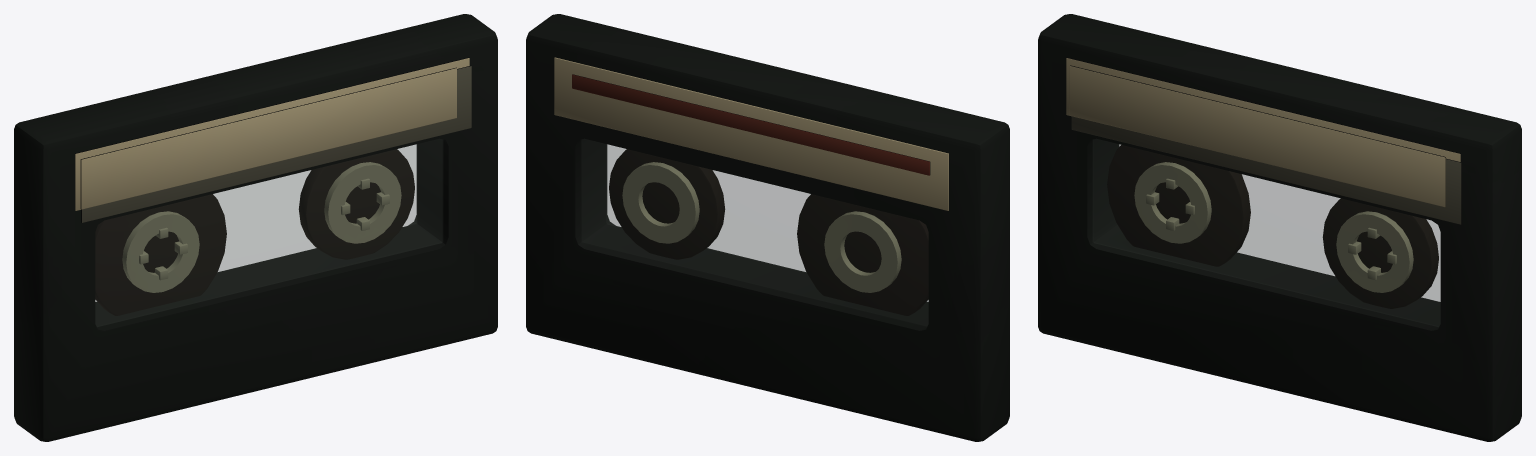
The model's file is Tape_02.fbx.
The picture shows the model from 3 angles, left to right: view 1: azimuth 30°, elevation 25°; view 2: azimuth 150°, elevation 25°; view 3: azimuth 330°, elevation 25°; orthographic projection.
Visible parts, largest first — view 1: Tape_02_Shell, Tape_02_Radio_Glass, Tape_02_Radio_Paper, TapeWinding.002, OldLabelEdge, TapeWinding.003, Tape_02_Reel_L_PIVOT_Radio_Spool, Tape_02_Reel_R_PIVOT_Radio_Spool; view 2: Tape_02_Shell, Tape_02_Radio_Glass, Tape_02_Radio_Paper, TapeWinding.002, TapeWinding.003, Tape_02_Radio_RustRed, Tape_02_Reel_L_PIVOT_Radio_Spool, Tape_02_Reel_R_PIVOT_Radio_Spool; view 3: Tape_02_Shell, Tape_02_Radio_Glass, Tape_02_Radio_Paper, TapeWinding.002, OldLabelEdge, TapeWinding.003, Tape_02_Reel_R_PIVOT_Radio_Spool, Tape_02_Reel_L_PIVOT_Radio_Spool.
Boxes of the visible parts, left/top/right/bottom form: Tape_02_Shell: left=14, top=14, right=497, bottom=441; Tape_02_Radio_Glass: left=95, top=139, right=442, bottom=326; Tape_02_Radio_Paper: left=75, top=57, right=469, bottom=210; TapeWinding.002: left=95, top=194, right=226, bottom=315; OldLabelEdge: left=81, top=65, right=471, bottom=222; TapeWinding.003: left=298, top=149, right=414, bottom=259; Tape_02_Reel_L_PIVOT_Radio_Spool: left=122, top=211, right=199, bottom=292; Tape_02_Reel_R_PIVOT_Radio_Spool: left=324, top=162, right=401, bottom=243; Tape_02_Shell: left=526, top=14, right=1009, bottom=441; Tape_02_Radio_Glass: left=581, top=139, right=928, bottom=326; Tape_02_Radio_Paper: left=554, top=57, right=948, bottom=210; TapeWinding.002: left=797, top=194, right=928, bottom=315; TapeWinding.003: left=609, top=149, right=725, bottom=259; Tape_02_Radio_RustRed: left=572, top=74, right=930, bottom=175; Tape_02_Reel_L_PIVOT_Radio_Spool: left=824, top=211, right=901, bottom=292; Tape_02_Reel_R_PIVOT_Radio_Spool: left=622, top=162, right=699, bottom=243; Tape_02_Shell: left=1038, top=14, right=1521, bottom=441; Tape_02_Radio_Glass: left=1093, top=139, right=1440, bottom=326; Tape_02_Radio_Paper: left=1066, top=57, right=1460, bottom=207; TapeWinding.002: left=1107, top=145, right=1250, bottom=266; OldLabelEdge: left=1071, top=116, right=1461, bottom=224; TapeWinding.003: left=1322, top=198, right=1438, bottom=308; Tape_02_Reel_R_PIVOT_Radio_Spool: left=1336, top=211, right=1413, bottom=292; Tape_02_Reel_L_PIVOT_Radio_Spool: left=1134, top=162, right=1211, bottom=243.
Size of the model in its own units: 10 by 6.3 by 1.32.
7 materials, 7 textured.
